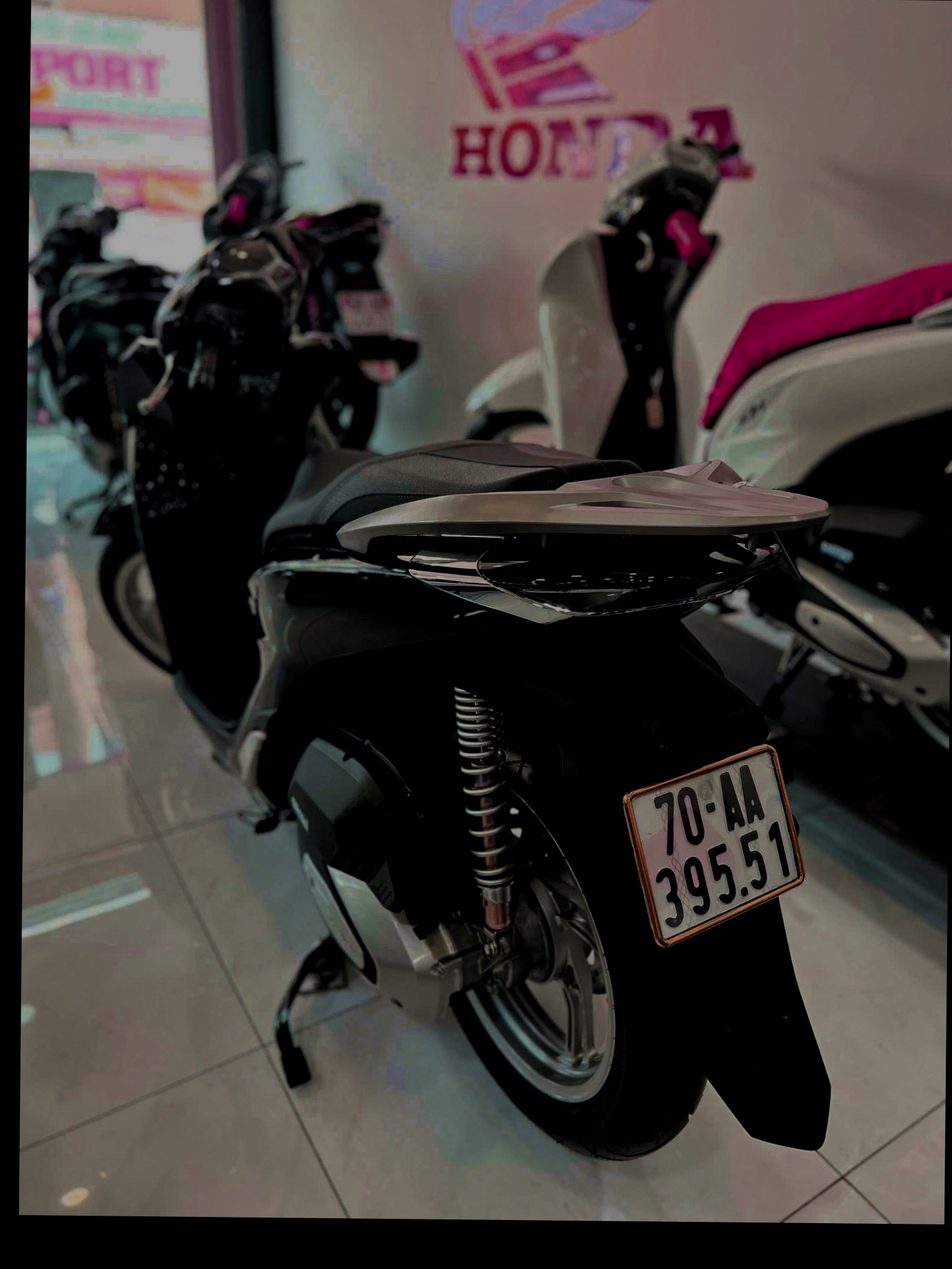Bien-so: (645, 767, 848, 993)
